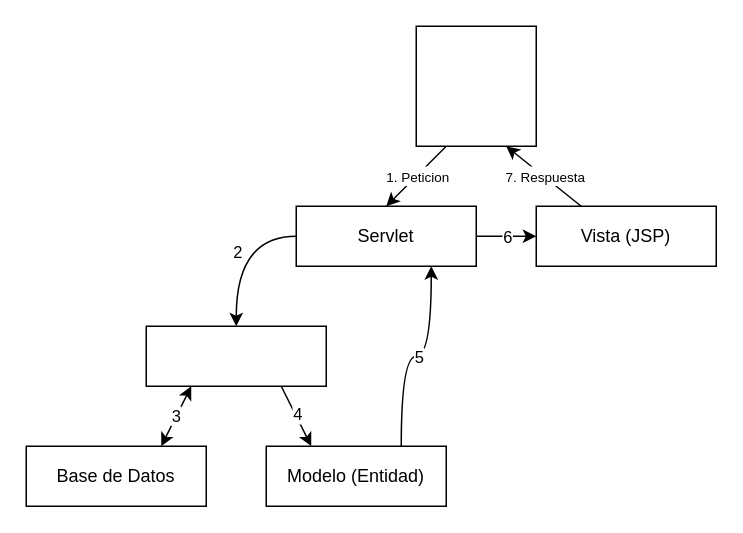
Some shapes in this 743 by 533 pixel diagram are drawn without their labels. The centre of each missing label's shape, as x and y in pixels:
Gestor/DAO (JPA): pixel 235 355
Navegador: pixel 475 85
